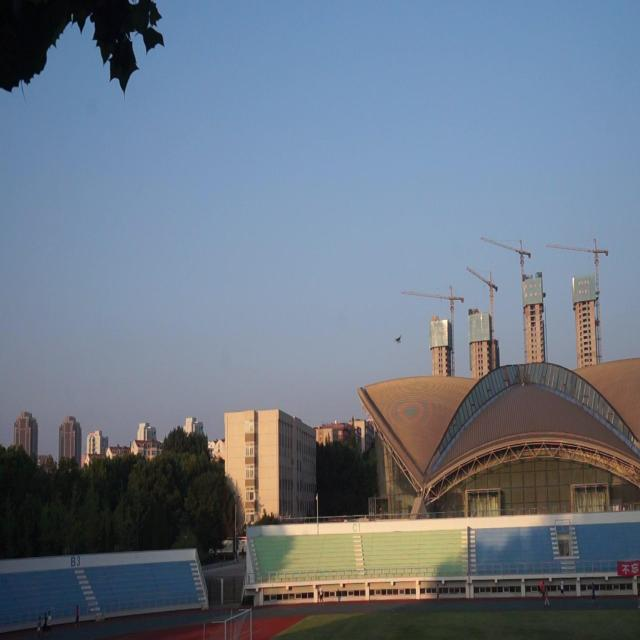drone: (393, 331, 405, 346)
